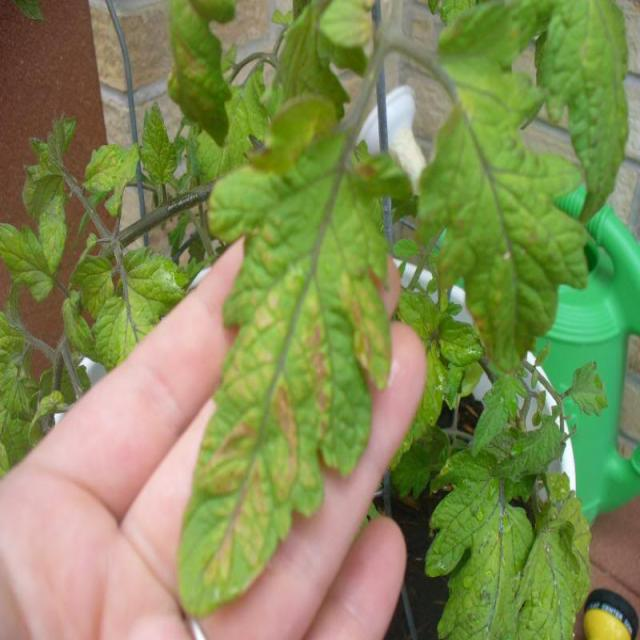Tomato leaf bacterial spot: (172, 146, 398, 627)
